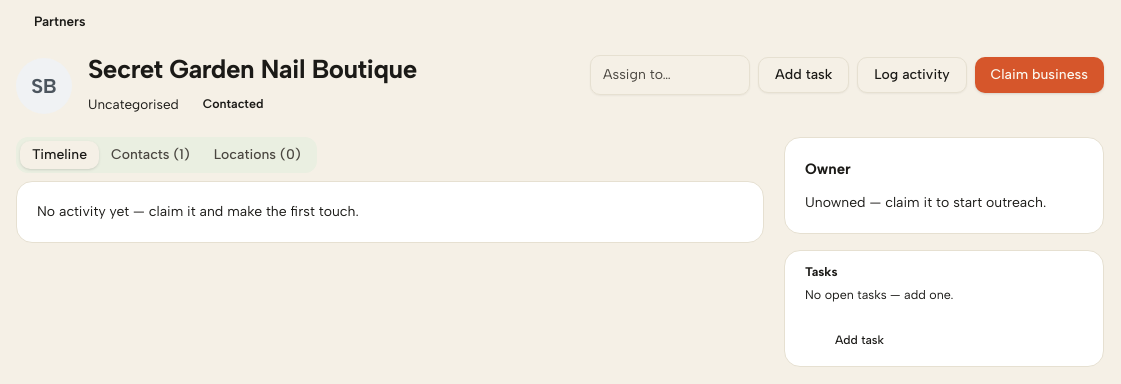
Test: PartnerDetail — only the owner works the business › an unowned business offers Claim, not the working controls
expect the text "Secret Garden Nail Boutique" is shown: met, box [88,55,417,85]
What coordinates should you click on to do the following:
click the tab "Contacts (1)"
I would click on:
 (150, 155)
Its box is [99,141,202,169].
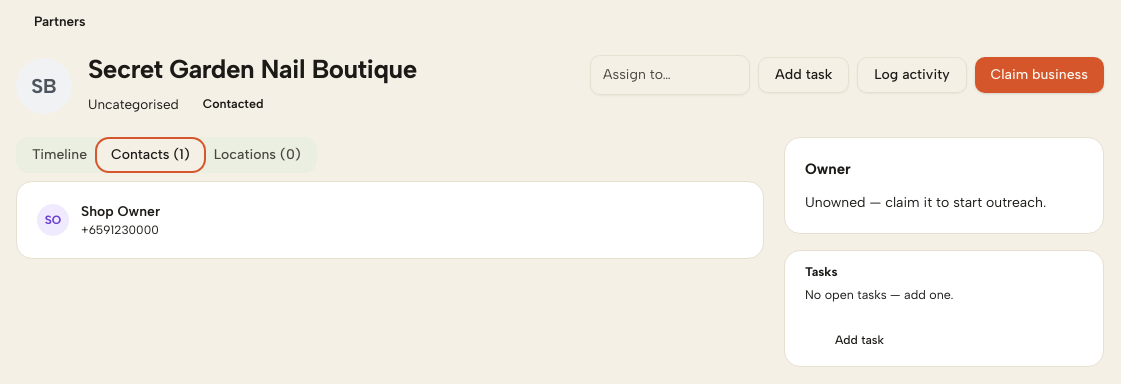
expect the panel is shown: met, box [16,181,764,259]
